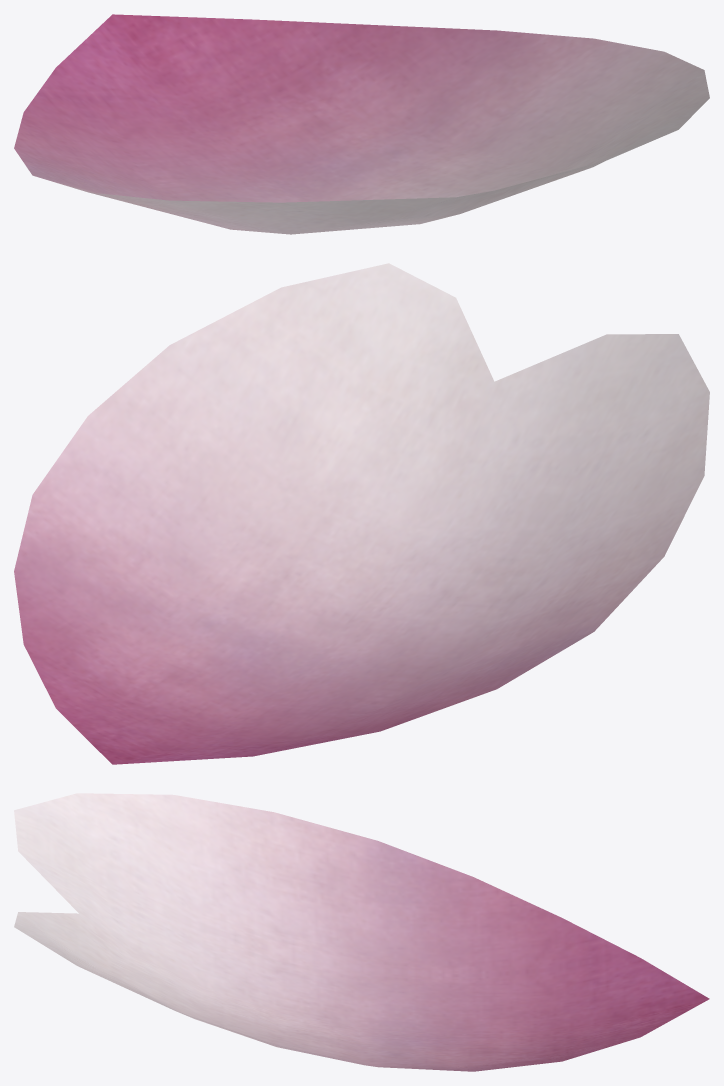
The model's file is sakura_petal.FBX.
3 renders of one model, top to bottom at view 1: azimuth 30°, elevation 25°; view 2: azimuth 150°, elevation 25°; view 3: azimuth 270°, elevation 25°, orthographic. The views are drawn at different scales.
Visible parts, largest first — view 1: sakura_petal_01; view 2: sakura_petal_01; view 3: sakura_petal_01.
Part boxes in pixels (x1=…): sakura_petal_01: x1=14, y1=14, x2=709, y2=234; sakura_petal_01: x1=14, y1=263, x2=709, y2=764; sakura_petal_01: x1=14, y1=793, x2=709, y2=1071.
Size of the model in its own units: 11.64 by 3.83 by 14.73.
